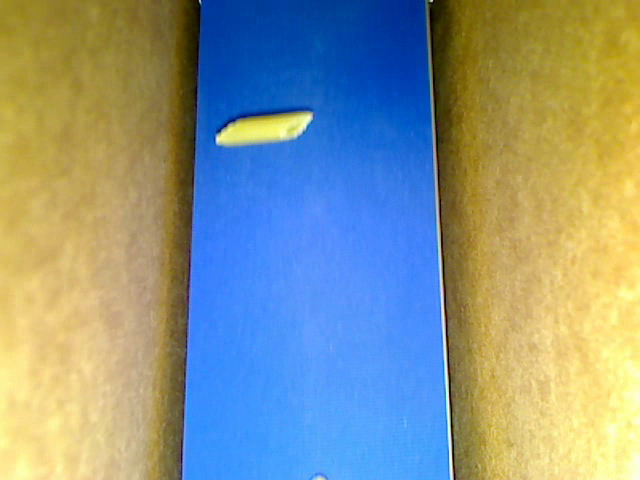penne: (214, 108, 314, 146)
